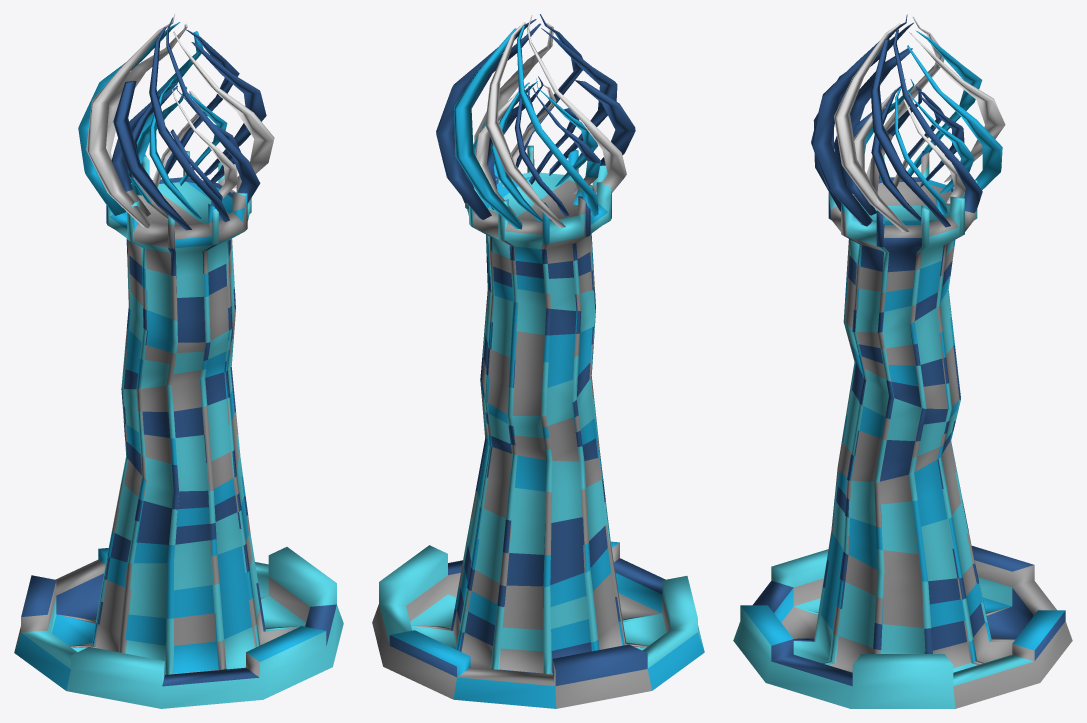
Rendered from Ice tower 5.fbx.
The picture shows the model from 3 angles, left to right: view 1: azimuth 30°, elevation 25°; view 2: azimuth 150°, elevation 25°; view 3: azimuth 270°, elevation 25°; orthographic projection.
Visible parts, largest first — view 1: Ice tower 5; view 2: Ice tower 5; view 3: Ice tower 5.
Part boxes in pixels (bbox=[...]): Ice tower 5: bbox=[14, 14, 343, 708]; Ice tower 5: bbox=[372, 14, 704, 708]; Ice tower 5: bbox=[733, 14, 1072, 708].
Bounding box in the file's own units: 199 × 425 × 209.
